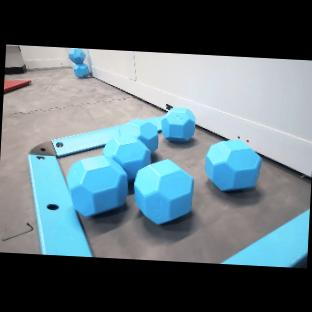Parking - B: (28, 125, 119, 257), (221, 209, 309, 268), (146, 116, 162, 131)
V5_BLUE: (222, 209, 309, 267), (134, 159, 193, 224), (66, 155, 128, 216), (204, 139, 261, 191), (102, 134, 150, 182), (119, 119, 157, 152), (161, 107, 195, 142)
